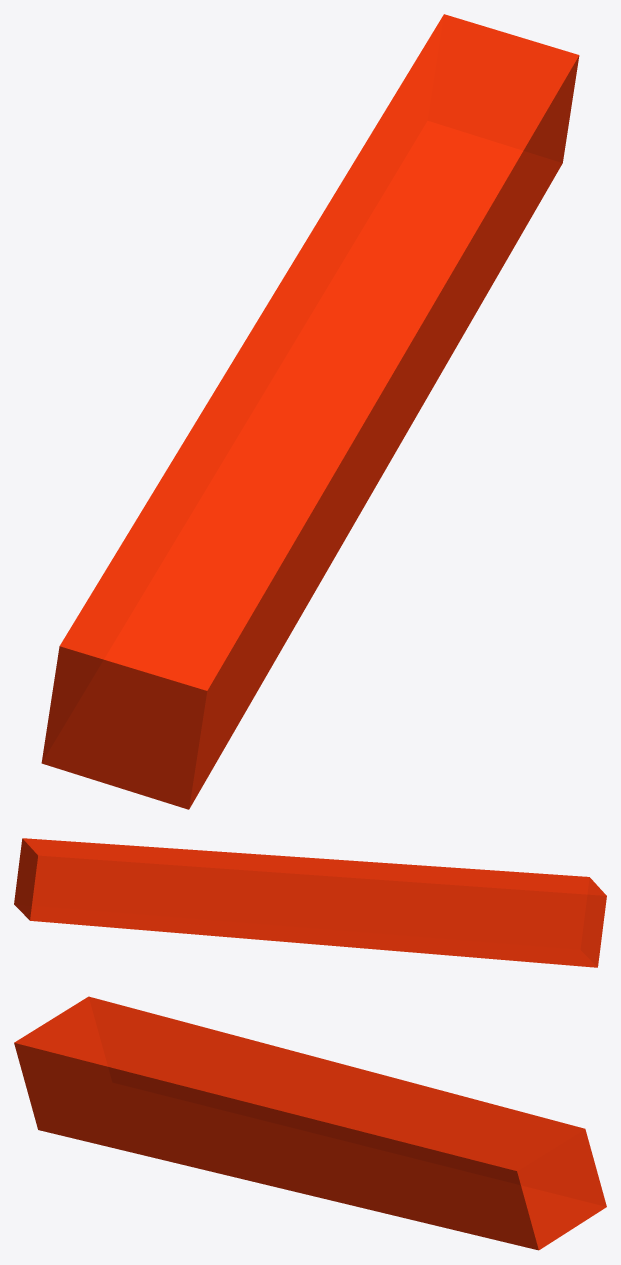
File: Event_421127236_EBrechit_22.fbx
The picture shows the model from 3 angles, top to bottom: view 1: azimuth 30°, elevation 25°; view 2: azimuth 150°, elevation 25°; view 3: azimuth 270°, elevation 25°; orthographic projection. The views are drawn at different scales.
Parts seen in each view (by area): view 1: Model; view 2: Model; view 3: Model.
Boxes of the visible parts, bbox=[...] form: Model: bbox=[41, 14, 579, 809]; Model: bbox=[14, 838, 606, 967]; Model: bbox=[14, 996, 606, 1250].
Bounding box in the file's own units: 0.4 × 0.1488 × 0.3687.
